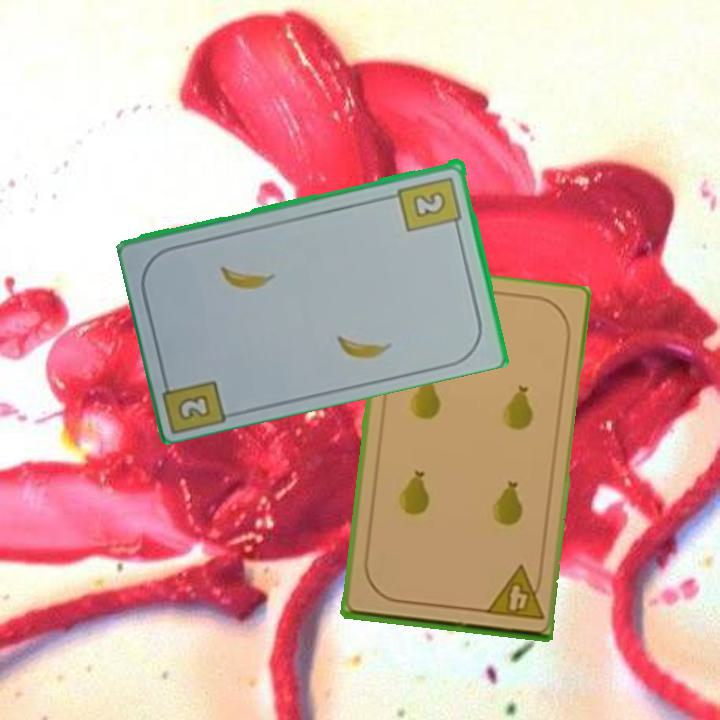2b: (159, 369, 231, 434), (395, 173, 465, 234)
4p: (481, 563, 547, 622)
